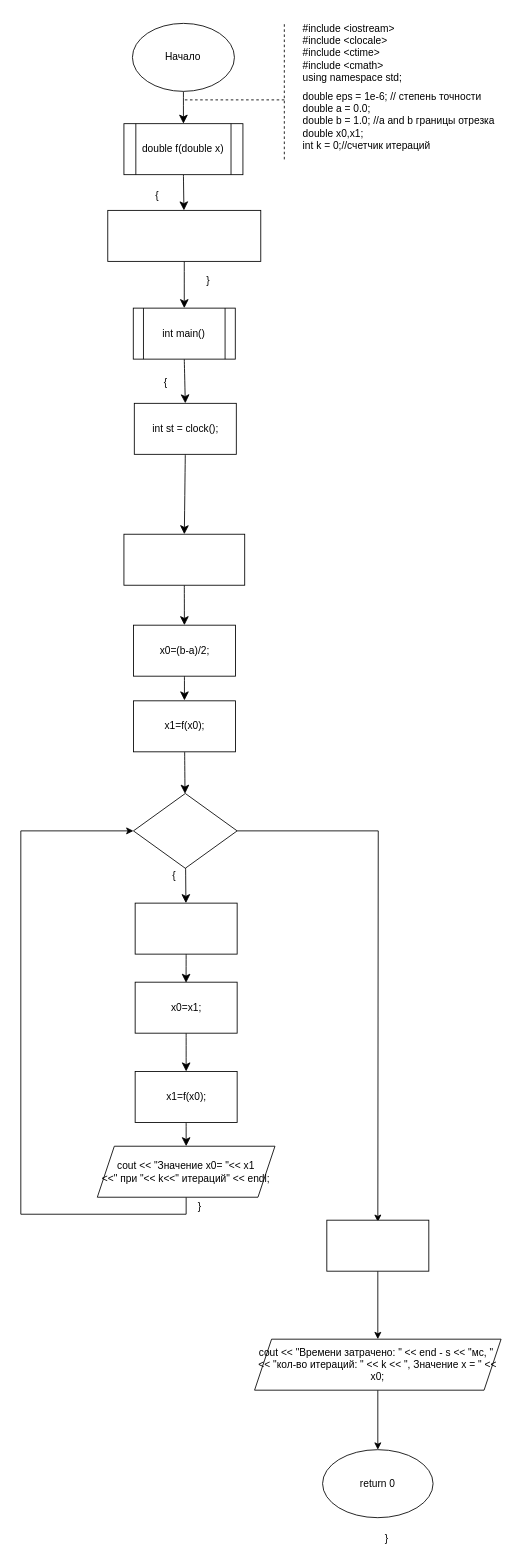
Image size: 529x1566. Some labels were removed from this diagram. Here are the shapes that lost their labels. From the top down, the centre of each, then its label:
[184,235]: return (x = sin(sqrt(1 - 0.4 * pow(x, 2))));
[184,559]: setlocale(LC_ALL,"Ru");
[185,830]: while (abs(x0-x1) > eps)
[185,928]: ++k;
[377,1245]: int end = clock();
